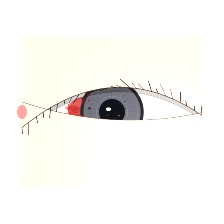hemorrhage_spot: (58, 82, 127, 137)
